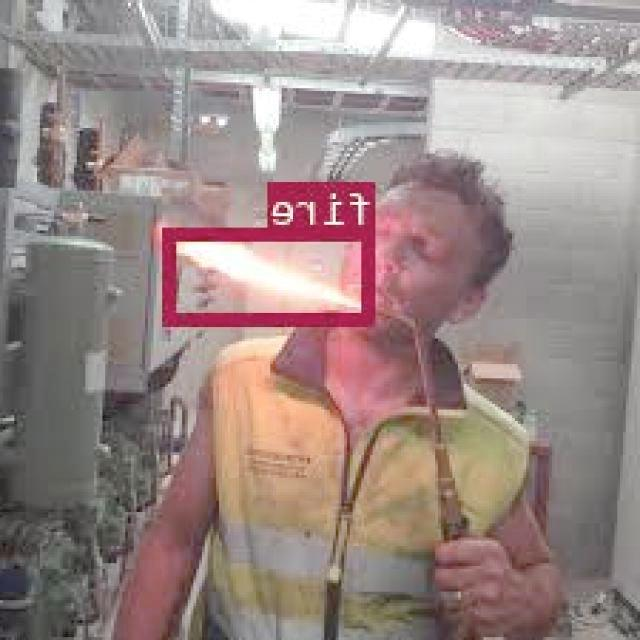fire: (166, 225, 376, 322)
